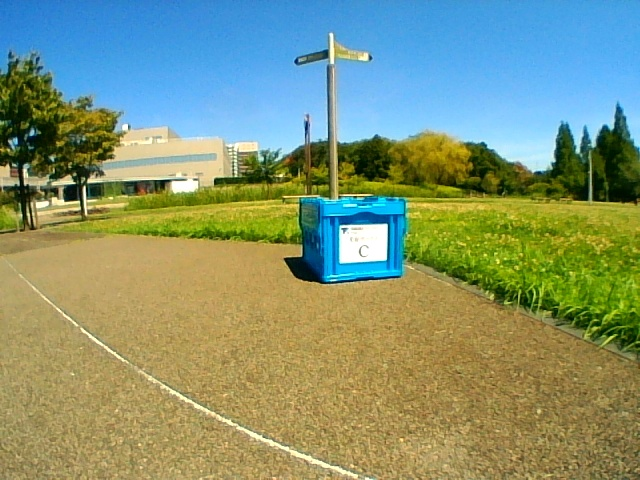blue_box: (305, 198, 404, 279)
tag_c: (341, 225, 384, 261)
